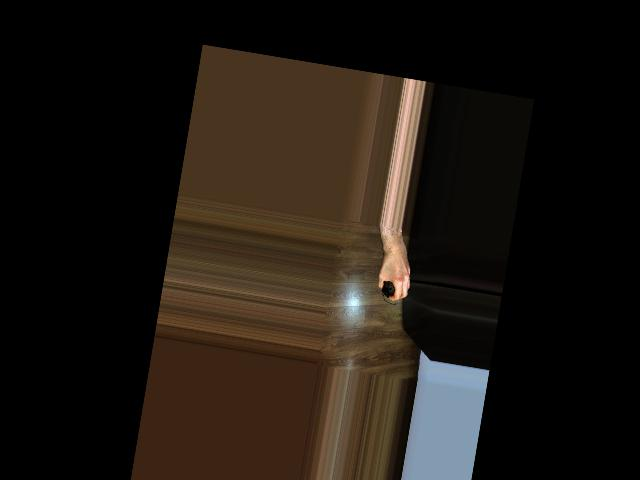beet: (379, 280, 399, 306)
